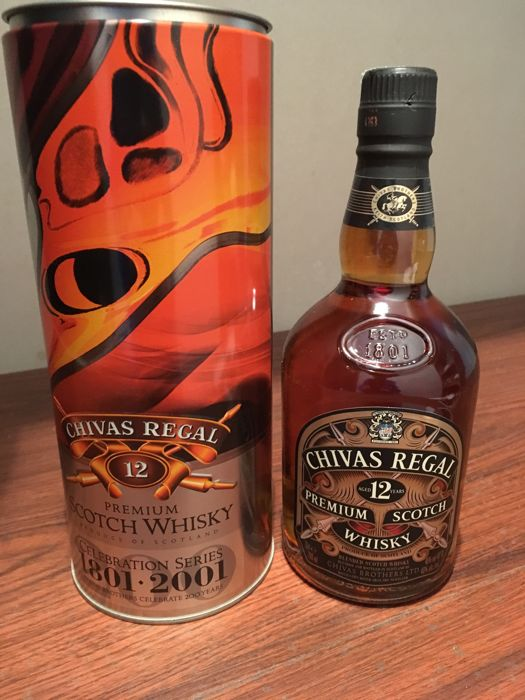Chivas Regal: (263, 54, 492, 620)
